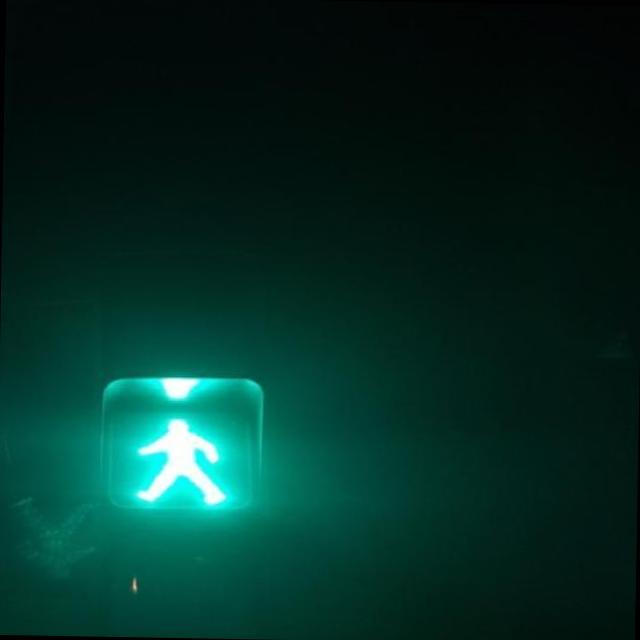green_light: (120, 400, 246, 512)
